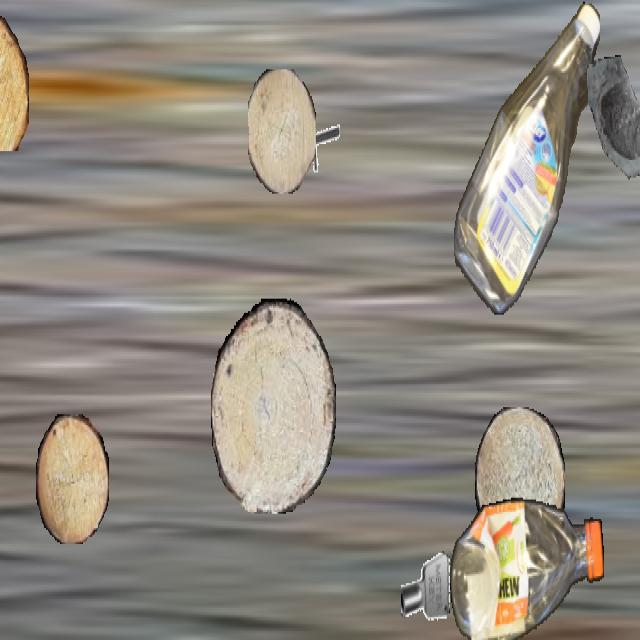glass: (587, 55, 640, 201)
metal: (401, 544, 451, 633), (302, 108, 340, 176)
plastic: (454, 2, 600, 314), (450, 496, 604, 638)
wood: (211, 299, 335, 512), (475, 407, 565, 557), (36, 414, 108, 542), (248, 69, 316, 194), (0, 2, 28, 151)
